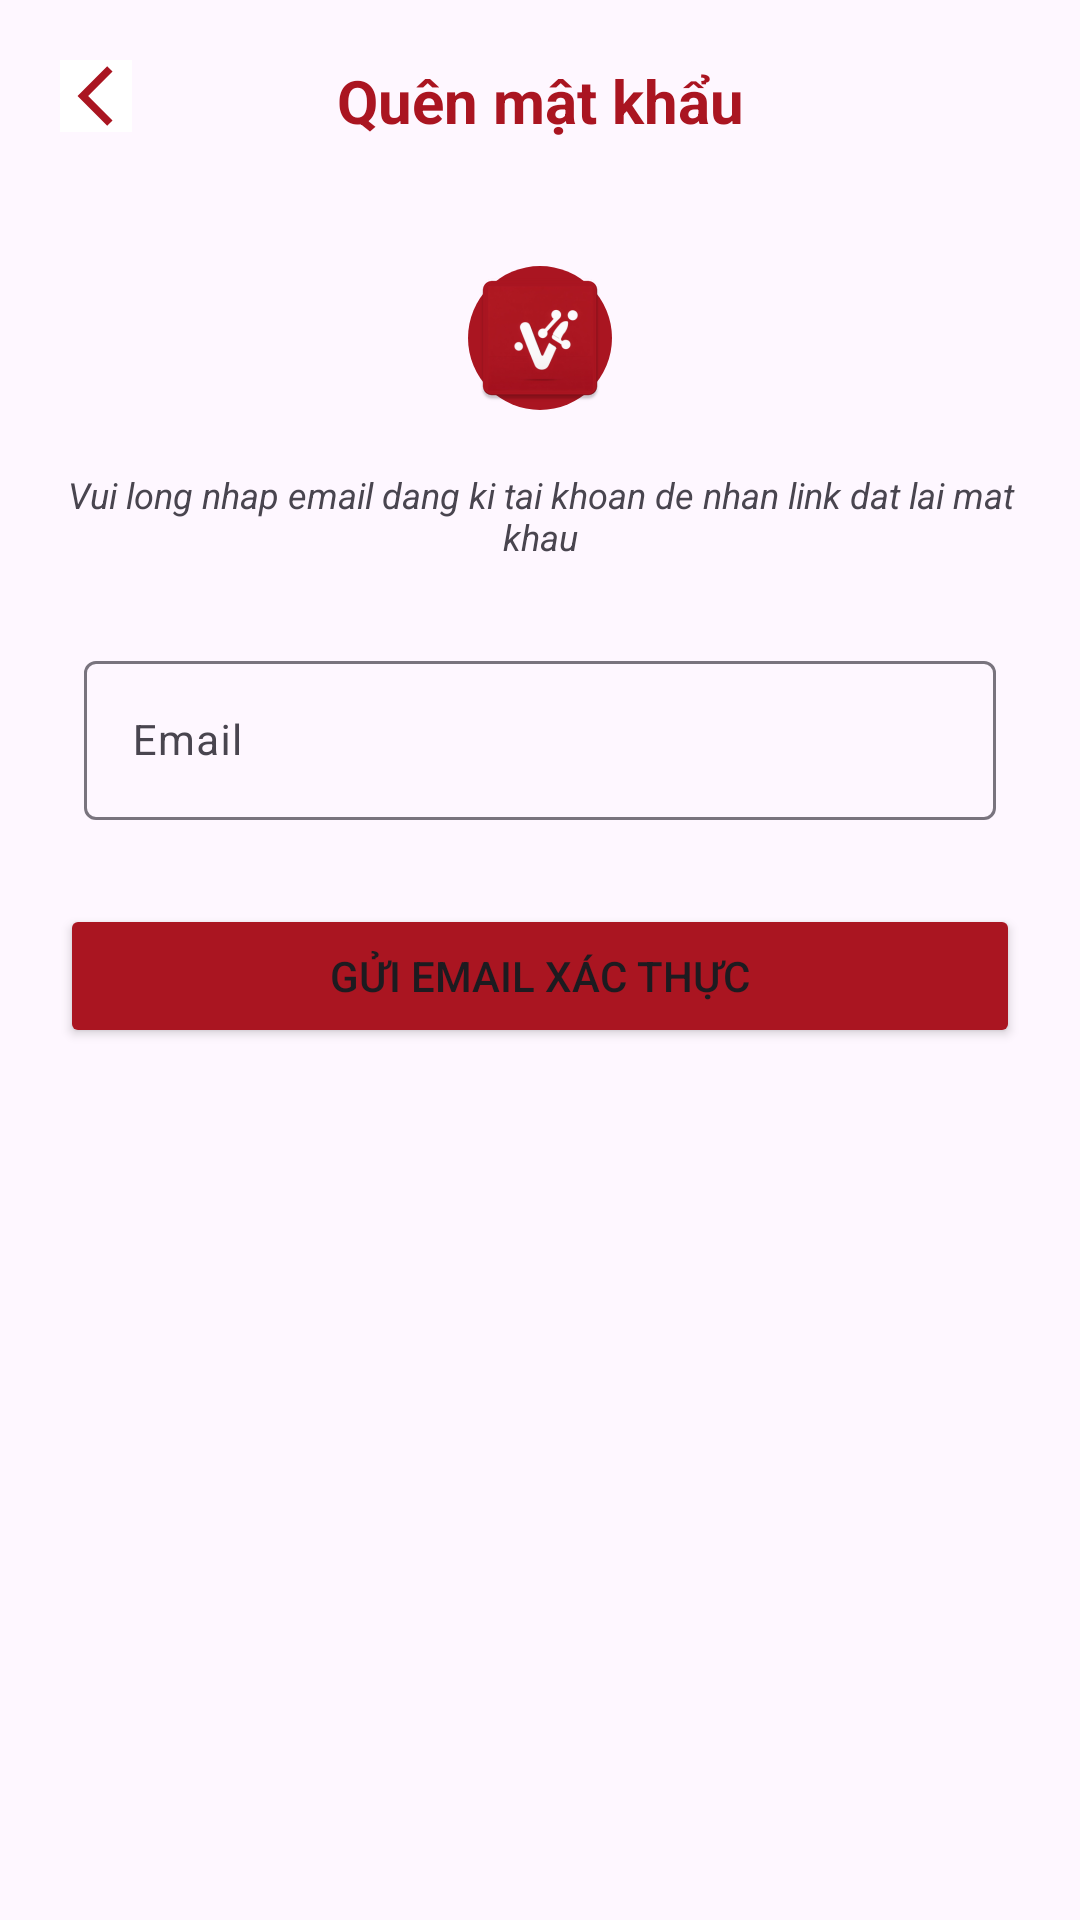

Where to tap for icons on this 1080 x 1920 app screen, as point (x, y):
back arrow: point (95, 96)
